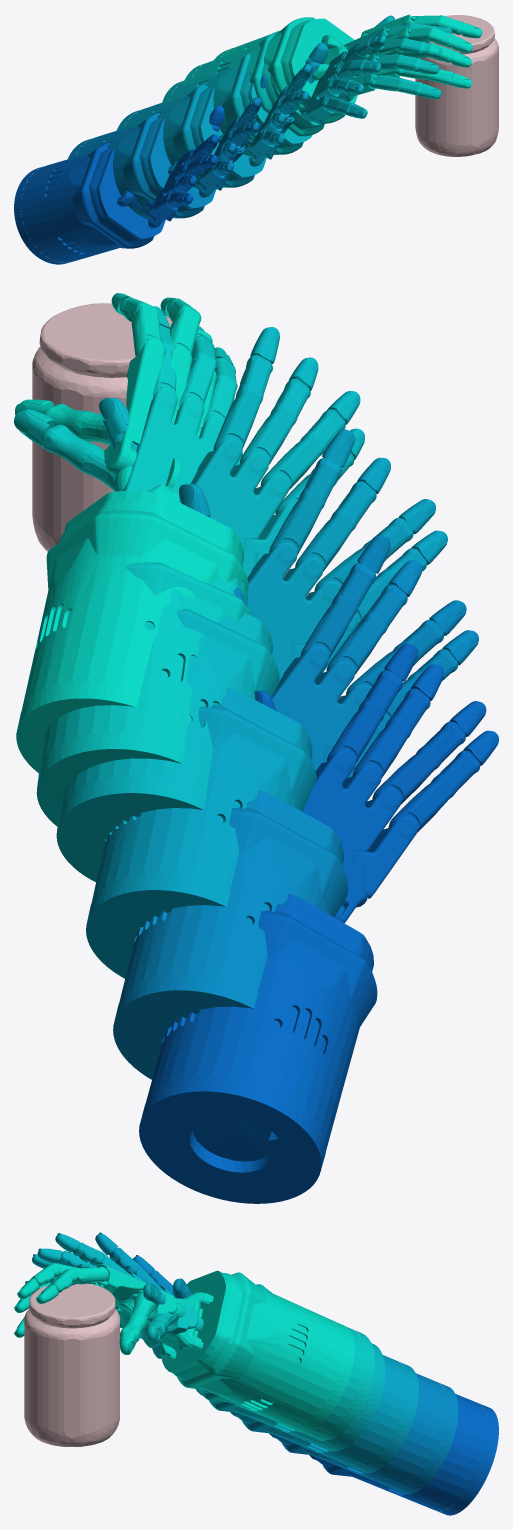
3 views of the same model, one above another, from view 1: azimuth 30°, elevation 25°; view 2: azimuth 150°, elevation 25°; view 3: azimuth 270°, elevation 25° (orthographic). The views are drawn at different scales.
Visible parts, largest first — view 1: world, decomposed.obj; view 2: world, decomposed.obj; view 3: world, decomposed.obj.
Part boxes in pixels (left/top/right/bottom): world: left=14, top=14, right=482, bottom=264; decomposed.obj: left=415, top=15, right=498, bottom=156; world: left=14, top=293, right=498, bottom=1203; decomposed.obj: left=32, top=303, right=172, bottom=551; world: left=14, top=1232, right=498, bottom=1515; decomposed.obj: left=24, top=1283, right=119, bottom=1446.
Bounding box in the file's own units: 0.4874 × 0.4653 × 0.5658.
